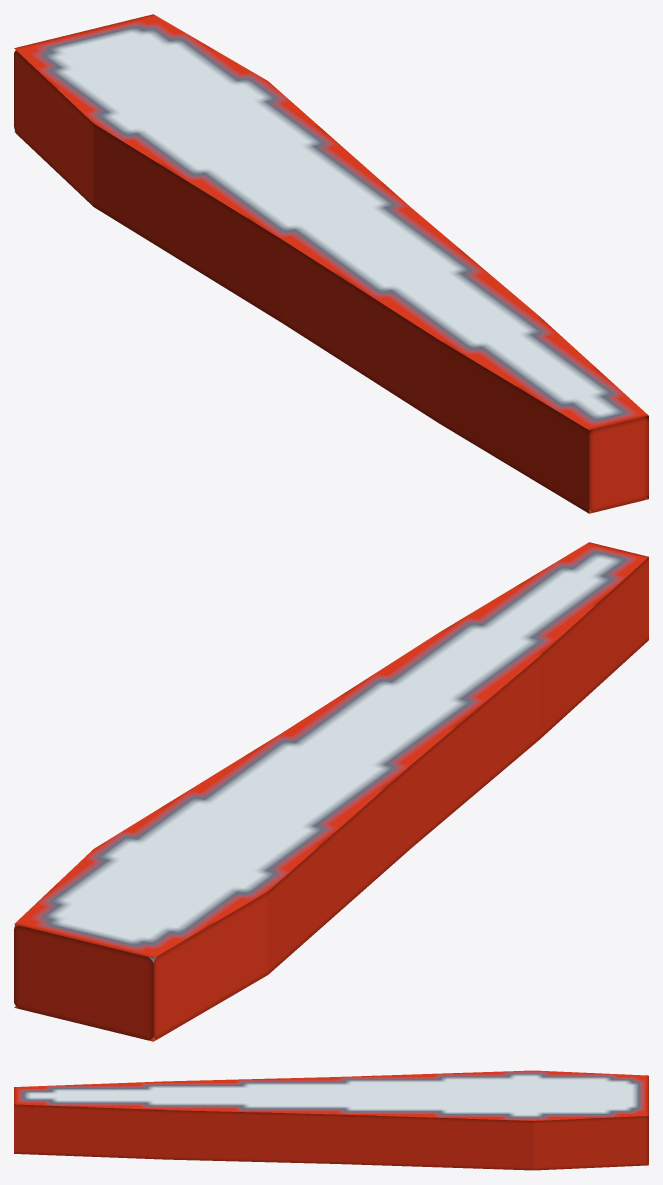
File: TestThing.fbx
The picture shows the model from 3 angles, top to bottom: view 1: azimuth 30°, elevation 25°; view 2: azimuth 150°, elevation 25°; view 3: azimuth 270°, elevation 25°; orthographic projection. The views are drawn at different scales.
Visible parts, largest first — view 1: body; view 2: body; view 3: body.
Part boxes in pixels (<box>): body: <box>14,14,648,513</box>; body: <box>14,542,648,1041</box>; body: <box>14,1070,648,1170</box>.
Bounding box in the file's own units: 109 × 50 × 581.
1 material, 1 textured.
